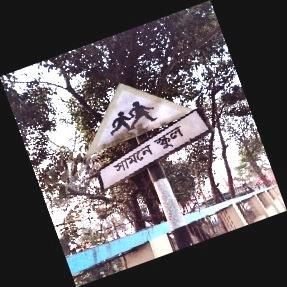School-in-front: (86, 83, 209, 193)
